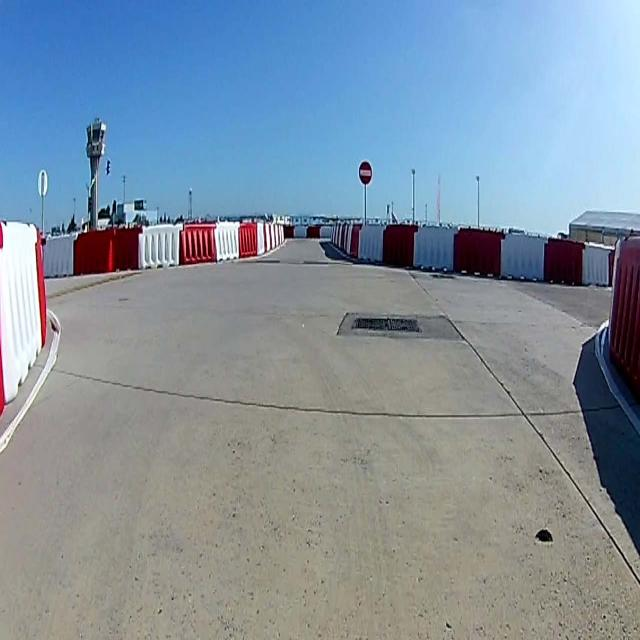girisyok: (358, 162, 372, 184)
